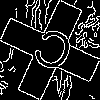C: (25, 25, 78, 83)
